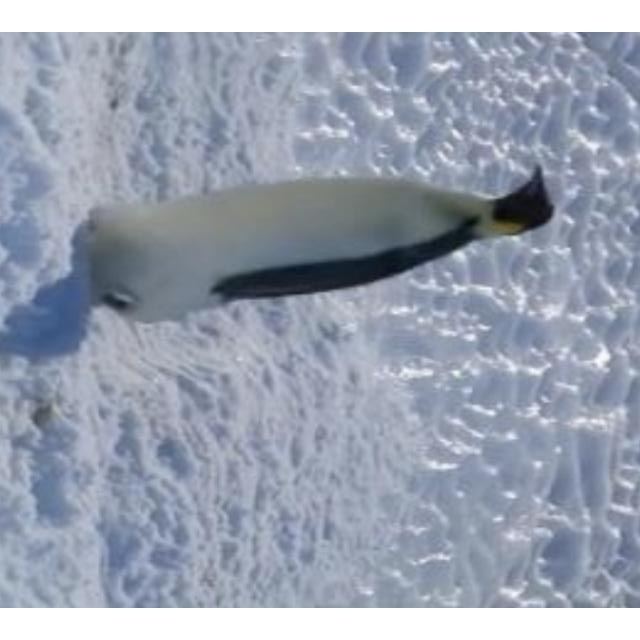penguin: (87, 164, 556, 324)
